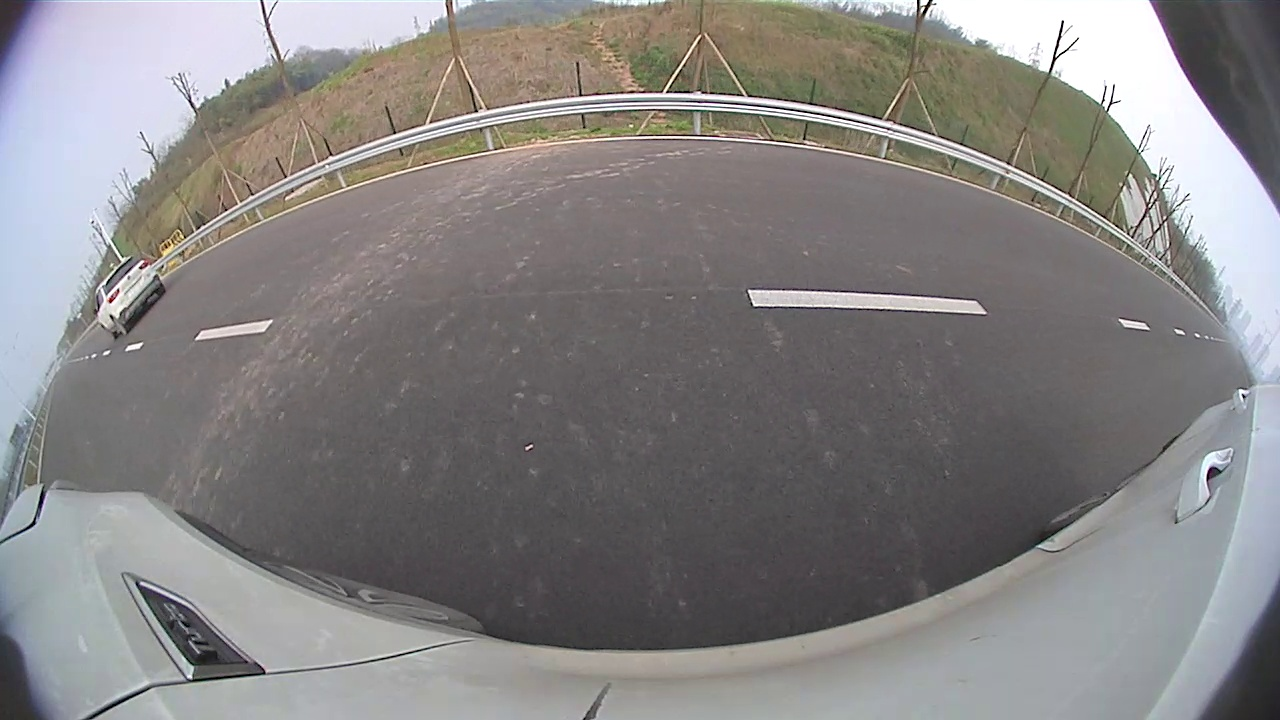car: (95, 256, 164, 335)
rear: (110, 313, 128, 337)
